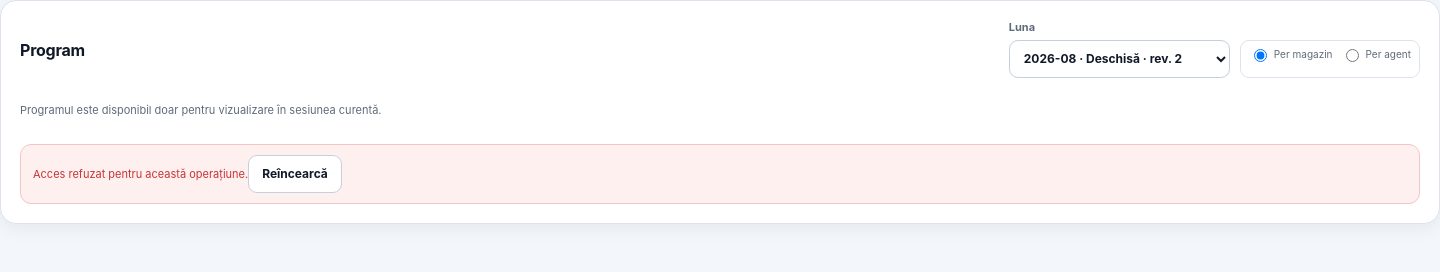
FE-010 request state contract › does not present a failed Program read as empty and retries into the successful empty state
Expected: the message shows "Acces refuzat", x1=33 y1=167 x2=248 y2=181
Expected: the text "Programul este gol." is not shown
Step 1. Click the button "Reîncearcă" → (295, 174), box x1=248 y1=155 x2=342 y2=193
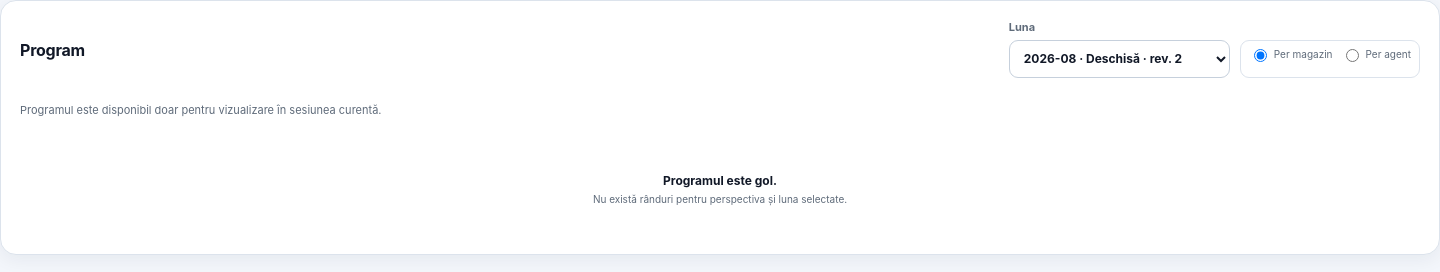
Now the text "Programul este gol." is shown, box x1=663 y1=173 x2=777 y2=188
